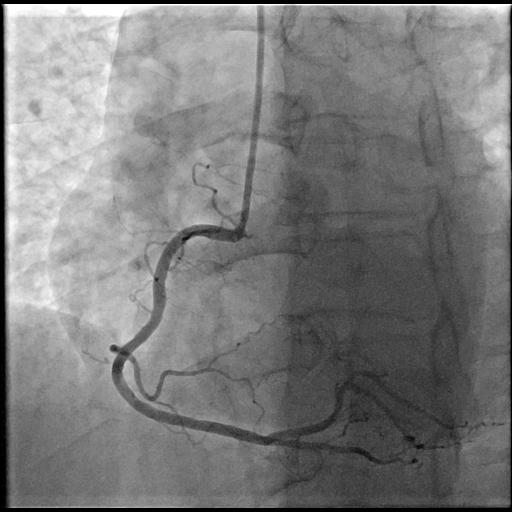RCA: (110, 225, 399, 464)
catherter: (235, 5, 265, 239)
